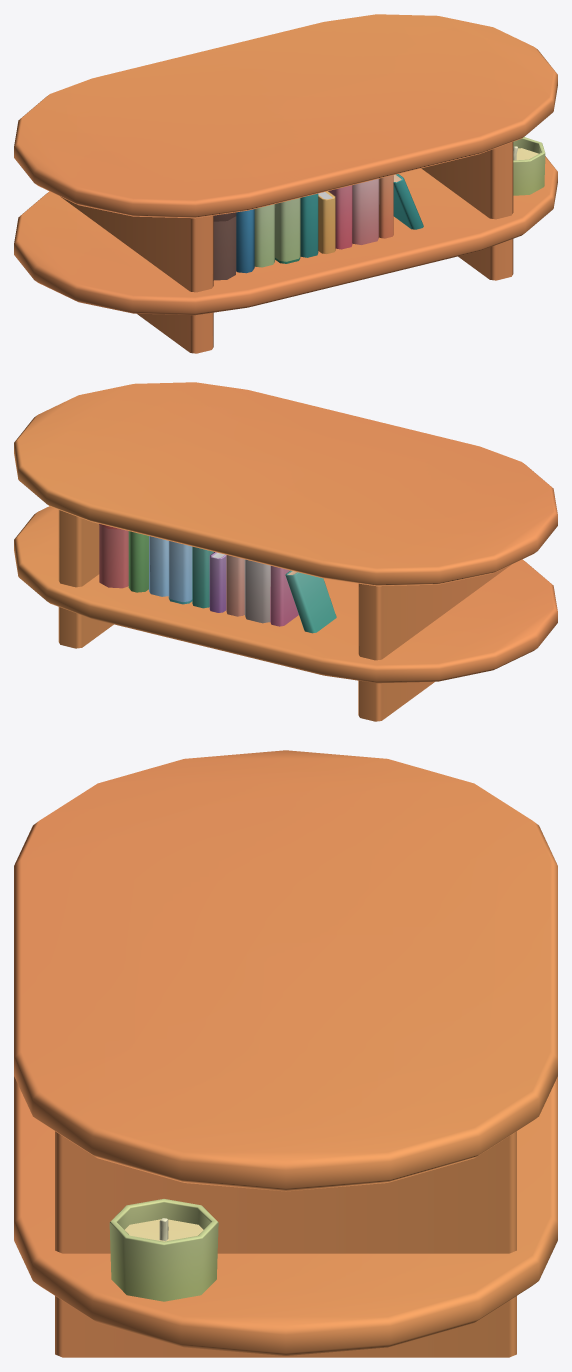
Rendered from Furniture_Table_19.fbx.
3 renders of one model, top to bottom at view 1: azimuth 30°, elevation 25°; view 2: azimuth 150°, elevation 25°; view 3: azimuth 270°, elevation 25°, orthographic. The views are drawn at different scales.
Parts seen in each view (by area): view 1: Furniture_Table_19; view 2: Furniture_Table_19; view 3: Furniture_Table_19.
Part boxes in pixels (left/top/right/bottom): Furniture_Table_19: left=14, top=14, right=557, bottom=353; Furniture_Table_19: left=14, top=382, right=557, bottom=721; Furniture_Table_19: left=14, top=750, right=557, bottom=1357.
Size of the model in its own units: 249 by 74.8 by 137.
